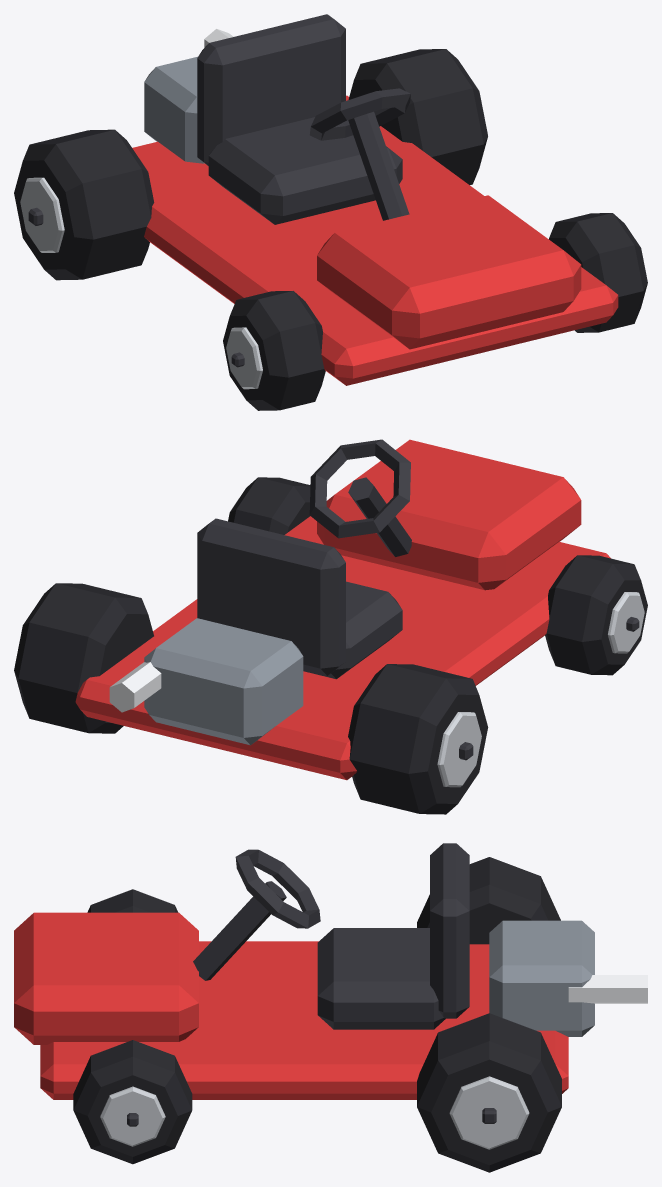
File: GoKart.fbx
The picture shows the model from 3 angles, top to bottom: view 1: azimuth 30°, elevation 25°; view 2: azimuth 150°, elevation 25°; view 3: azimuth 270°, elevation 25°; orthographic projection. The views are drawn at different scales.
Parts seen in each view (by area): view 1: GoKart, GoKart_WheelBR, GoKart_WheelBL, GoKart_WheelFR, GoKart_WheelFL; view 2: GoKart, GoKart_WheelBR, GoKart_WheelBL, GoKart_WheelFR, GoKart_WheelFL; view 3: GoKart, GoKart_WheelBL, GoKart_WheelFL, GoKart_WheelBR, GoKart_WheelFR.
Boxes of the visible parts, x1=… form: GoKart: x1=132, y1=14, x2=618, y2=385; GoKart_WheelBR: x1=14, y1=129, x2=154, y2=280; GoKart_WheelBL: x1=348, y1=49, x2=487, y2=184; GoKart_WheelFR: x1=223, y1=291, x2=325, y2=410; GoKart_WheelFL: x1=549, y1=213, x2=647, y2=332; GoKart: x1=75, y1=439, x2=610, y2=780; GoKart_WheelBR: x1=348, y1=664, x2=488, y2=814; GoKart_WheelBL: x1=14, y1=583, x2=153, y2=733; GoKart_WheelFR: x1=545, y1=555, x2=647, y2=675; GoKart_WheelFL: x1=228, y1=477, x2=310, y2=534; GoKart: x1=14, y1=843, x2=647, y2=1099; GoKart_WheelBL: x1=417, y1=1013, x2=561, y2=1172; GoKart_WheelFL: x1=73, y1=1040, x2=192, y2=1164; GoKart_WheelBR: x1=417, y1=857, x2=560, y2=944; GoKart_WheelFR: x1=87, y1=889, x2=178, y2=912.
Size of the model in its own units: 3.72 by 1.88 by 4.8.
Materials: 1 (1 with a texture image).
